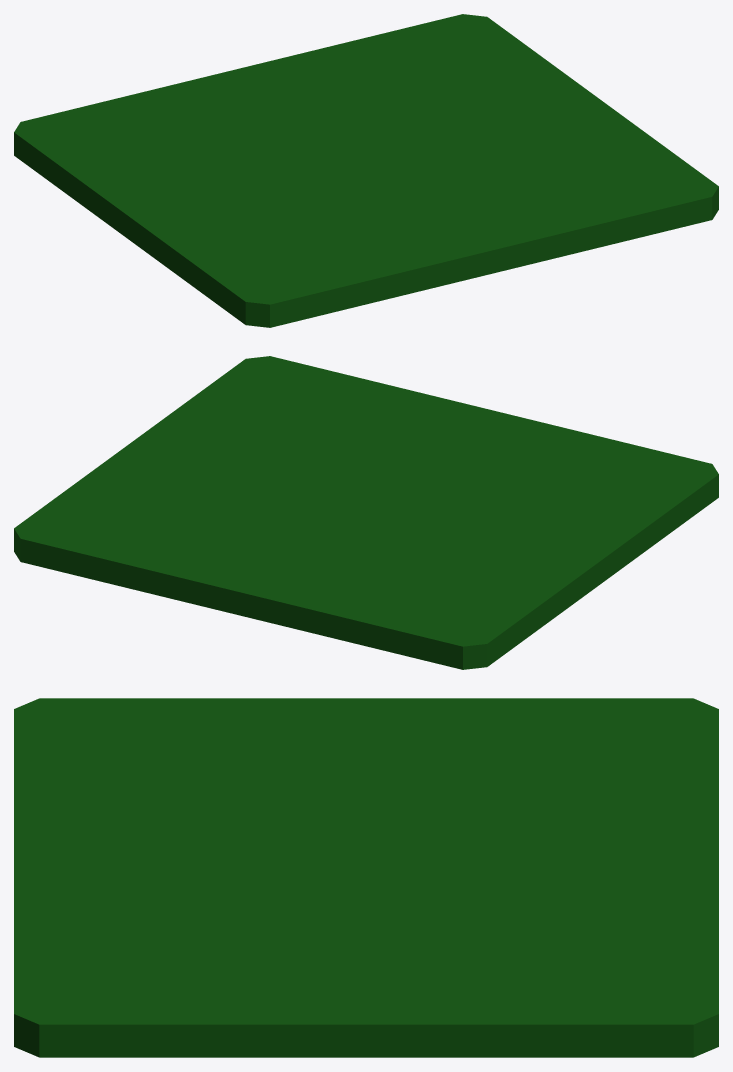
File: Grass_02.FBX
3 views of the same model, one above another, from view 1: azimuth 30°, elevation 25°; view 2: azimuth 150°, elevation 25°; view 3: azimuth 270°, elevation 25° (orthographic). The views are drawn at different scales.
Visible parts, largest first — view 1: Grass_02; view 2: Grass_02; view 3: Grass_02.
Boxes of the visible parts, x1,y1,x2,y2 form: Grass_02: (14, 14, 718, 327); Grass_02: (14, 356, 718, 669); Grass_02: (14, 698, 718, 1057).
Bounding box in the file's own units: 18.62 × 0.8752 × 17.
